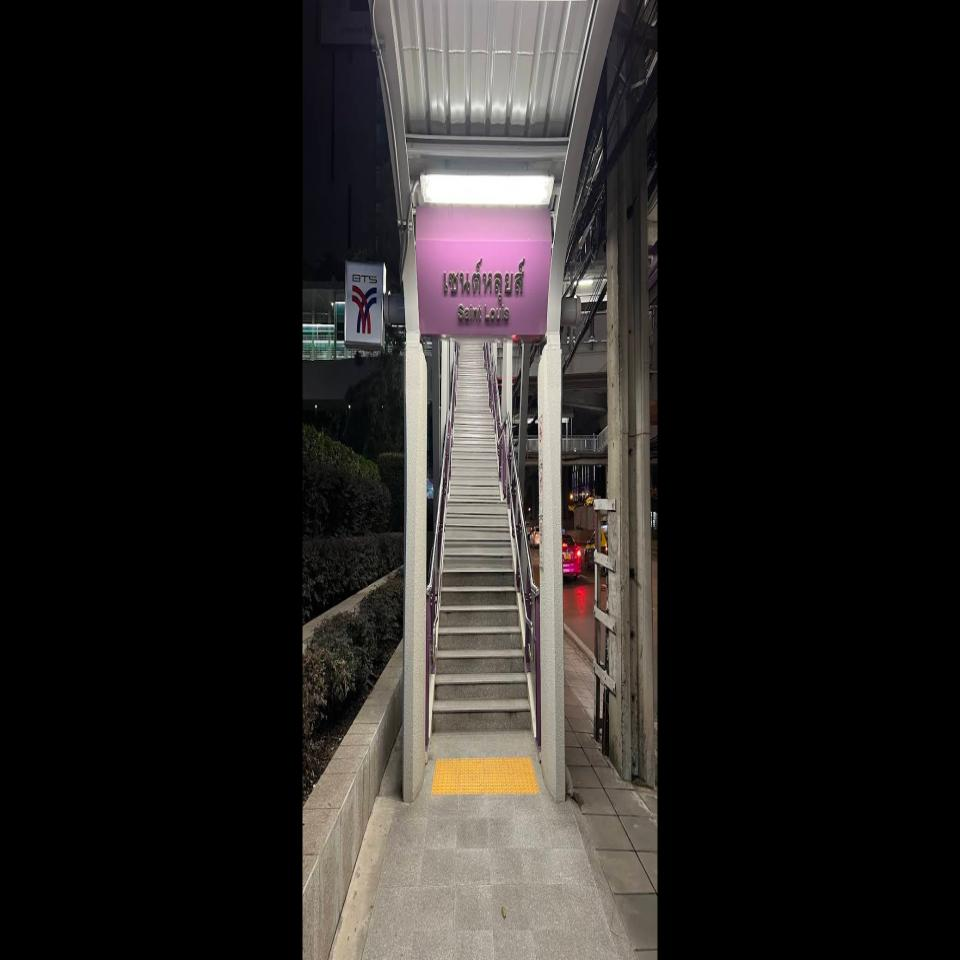signage: (344, 239, 554, 346), (414, 238, 554, 333)
